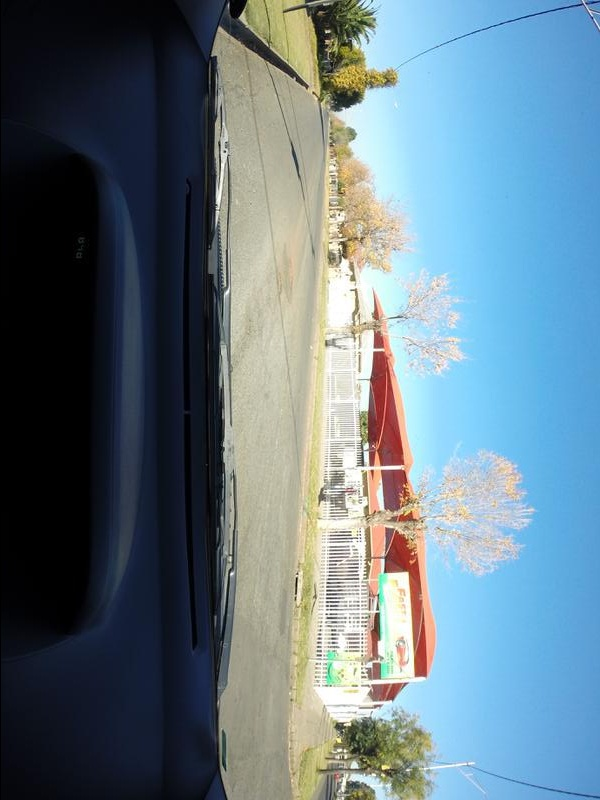pothole: (272, 272, 279, 298)
